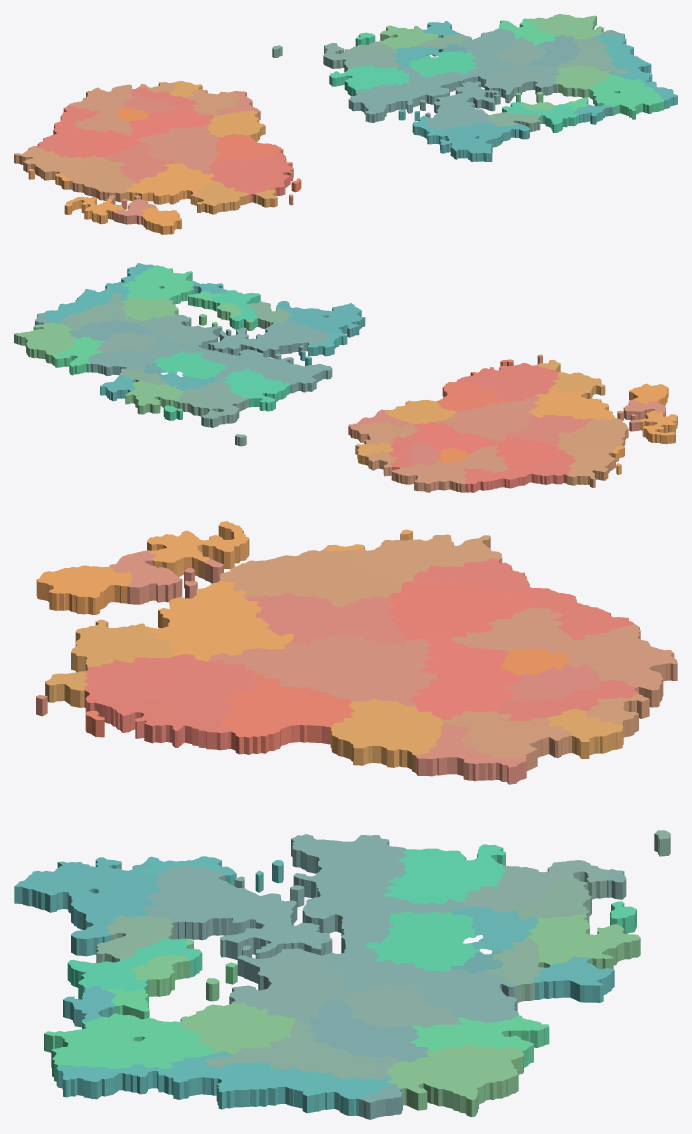
The model's file is two_island.fbx.
The picture shows the model from 3 angles, top to bottom: view 1: azimuth 30°, elevation 25°; view 2: azimuth 150°, elevation 25°; view 3: azimuth 270°, elevation 25°; orthographic projection. The views are drawn at different scales.
Visible parts, largest first — view 1: province58, province37, province52.001, province29, province20, province36, province52, province52.004, province28, province7, province45, province5 (+42 smaller); view 2: province52.001, province37, province20, province28, province58, province41, province52.004, province52, province36, province29, province5, province45 (+42 smaller); view 3: province52.001, province37, province58, province52, province28, province2, province40, province20, province29, province36, province9, province45 (+46 smaller).
Boxes of the visible parts, x1,y1,x2,y2 form: province58: [435, 121, 529, 161]; province37: [136, 125, 220, 168]; province52.001: [424, 81, 499, 129]; province29: [126, 163, 214, 204]; province20: [589, 74, 664, 119]; province36: [64, 156, 138, 202]; province52: [395, 56, 514, 104]; province52.004: [348, 83, 425, 122]; province28: [207, 156, 276, 202]; province7: [484, 64, 560, 97]; province45: [57, 128, 141, 157]; province5: [329, 64, 409, 95]; province52.001: [208, 320, 330, 358]; province37: [436, 400, 536, 441]; province20: [123, 265, 194, 304]; province28: [474, 365, 559, 401]; province58: [276, 301, 365, 337]; province41: [391, 461, 466, 492]; province52.004: [249, 353, 332, 393]; province52: [147, 338, 264, 381]; province36: [555, 418, 628, 452]; province29: [529, 390, 614, 420]; province5: [221, 368, 290, 411]; province45: [495, 437, 566, 482]; province52.001: [143, 865, 332, 959]; province37: [246, 634, 437, 706]; province58: [14, 857, 161, 956]; province52: [302, 891, 464, 991]; province28: [84, 653, 258, 716]; province2: [387, 1043, 523, 1117]; province40: [220, 673, 354, 754]; province20: [44, 1013, 215, 1081]; province29: [145, 581, 293, 661]; province36: [219, 549, 403, 607]; province9: [205, 1062, 393, 1115]; province45: [388, 581, 538, 640].
Bounding box in the file's own units: 42.96 × 0.592 × 20.71.
